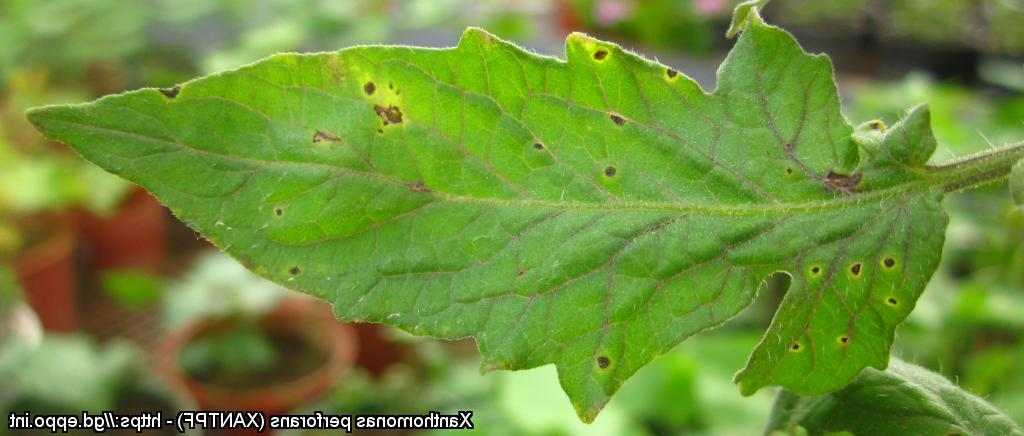Tomato leaf bacterial spot: (29, 25, 952, 403)
